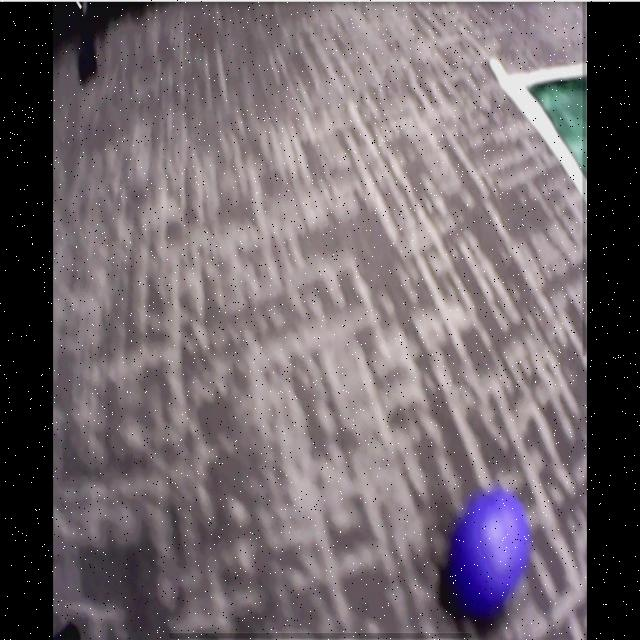ball: (452, 492, 524, 619)
